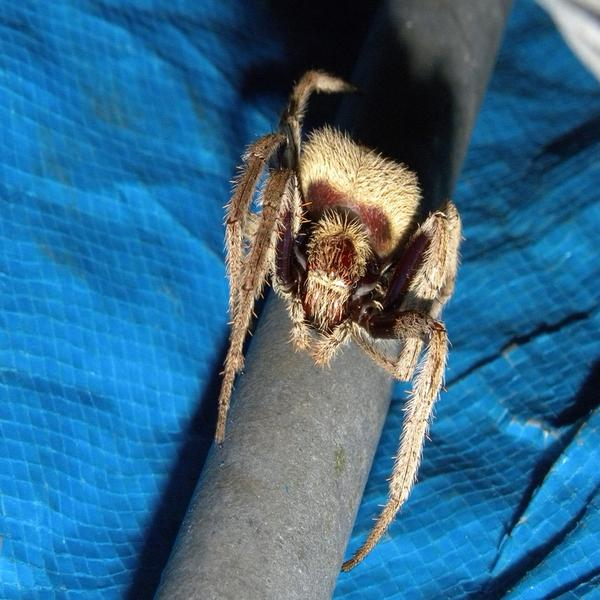Garden Orb Weaver Spider: (220, 74, 457, 548)
